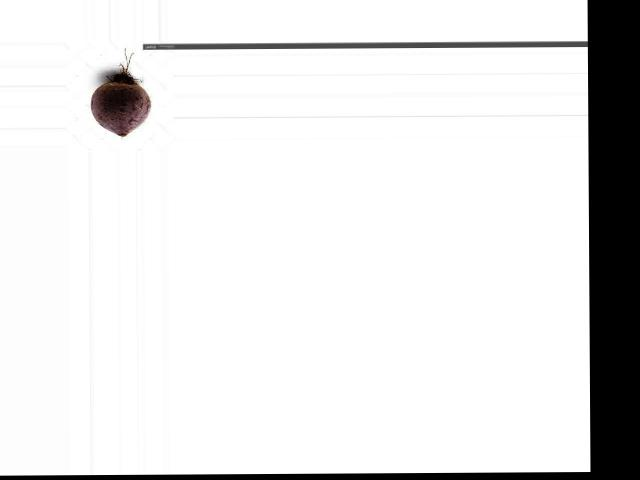beet: (90, 47, 152, 137)
